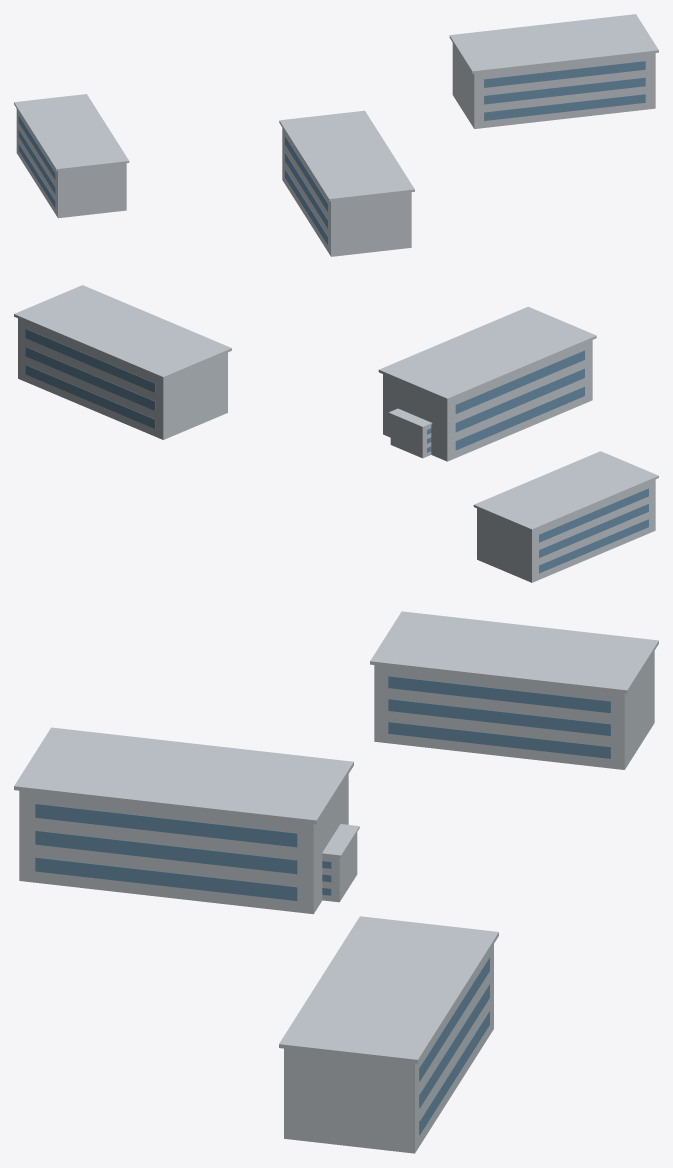
The model's file is GeoSandbox组合装配.glb.
3 renders of one model, top to bottom at view 1: azimuth 30°, elevation 25°; view 2: azimuth 150°, elevation 25°; view 3: azimuth 270°, elevation 25°, orthographic. The views are drawn at different scales.
Parts seen in each view (by area): view 1: 教学楼 A 2/Roof cap, 教学楼 A 1/Roof cap, 教学楼 A 2/Main block, 教学楼 A 1/Main block, 教学楼 A 3/Roof cap, 教学楼 A 3/Main block, 教学楼 A 2/Window strip 8.03 floor 1, 教学楼 A 2/Window strip 8.03 floor 0, 教学楼 A 2/Window strip 8.03 floor 2, 教学楼 A 1/Window strip -8.03 floor 1, 教学楼 A 1/Window strip -8.03 floor 0, 教学楼 A 1/Window strip -8.03 floor 2; view 2: 教学楼 A 2/Main block, 教学楼 A 1/Roof cap, 教学楼 A 2/Roof cap, 教学楼 A 1/Main block, 教学楼 A 3/Main block, 教学楼 A 3/Roof cap, 教学楼 A 2/Window strip -8.03 floor 0, 教学楼 A 2/Window strip -8.03 floor 1, 教学楼 A 2/Window strip -8.03 floor 2, 教学楼 A 1/Window strip -8.03 floor 0, 教学楼 A 1/Window strip -8.03 floor 1, 教学楼 A 1/Window strip -8.03 floor 2 (+4 smaller); view 3: 教学楼 A 1/Roof cap, 教学楼 A 2/Roof cap, 教学楼 A 1/Main block, 教学楼 A 2/Main block, 教学楼 A 3/Roof cap, 教学楼 A 3/Main block, 教学楼 A 1/Window strip 8.03 floor 0, 教学楼 A 1/Window strip 8.03 floor 1, 教学楼 A 1/Window strip 8.03 floor 2, 教学楼 A 3/Window strip 8.03 floor 2, 教学楼 A 3/Window strip 8.03 floor 0, 教学楼 A 3/Window strip 8.03 floor 1 (+4 smaller).
Part boxes in pixels (<box>): 教学楼 A 2/Roof cap: <box>449,14,658,73</box>; 教学楼 A 1/Roof cap: <box>279,110,414,201</box>; 教学楼 A 2/Main block: <box>452,43,655,128</box>; 教学楼 A 1/Main block: <box>282,128,411,256</box>; 教学楼 A 3/Roof cap: <box>14,94,129,171</box>; 教学楼 A 3/Main block: <box>16,109,126,218</box>; 教学楼 A 2/Window strip 8.03 floor 1: <box>484,77,645,104</box>; 教学楼 A 2/Window strip 8.03 floor 0: <box>484,94,645,120</box>; 教学楼 A 2/Window strip 8.03 floor 2: <box>484,61,645,87</box>; 教学楼 A 1/Window strip -8.03 floor 1: <box>285,152,328,228</box>; 教学楼 A 1/Window strip -8.03 floor 0: <box>285,169,328,245</box>; 教学楼 A 1/Window strip -8.03 floor 2: <box>285,136,328,212</box>; 教学楼 A 2/Main block: <box>18,318,227,439</box>; 教学楼 A 1/Roof cap: <box>378,306,596,401</box>; 教学楼 A 2/Roof cap: <box>14,285,231,379</box>; 教学楼 A 1/Main block: <box>383,340,592,461</box>; 教学楼 A 3/Main block: <box>477,479,655,582</box>; 教学楼 A 3/Roof cap: <box>473,451,658,531</box>; 教学楼 A 2/Window strip -8.03 floor 0: <box>25,365,155,428</box>; 教学楼 A 2/Window strip -8.03 floor 1: <box>25,347,155,410</box>; 教学楼 A 2/Window strip -8.03 floor 2: <box>25,329,155,392</box>; 教学楼 A 1/Window strip -8.03 floor 0: <box>455,386,584,450</box>; 教学楼 A 1/Window strip -8.03 floor 1: <box>455,368,584,432</box>; 教学楼 A 1/Window strip -8.03 floor 2: <box>455,350,584,413</box>; 教学楼 A 1/Roof cap: <box>14,727,353,824</box>; 教学楼 A 2/Roof cap: <box>279,916,498,1063</box>; 教学楼 A 1/Main block: <box>19,774,348,914</box>; 教学楼 A 2/Main block: <box>284,944,493,1153</box>; 教学楼 A 3/Roof cap: <box>370,611,658,693</box>; 教学楼 A 3/Main block: <box>374,651,654,769</box>; 教学楼 A 1/Window strip 8.03 floor 0: <box>35,857,297,900</box>; 教学楼 A 1/Window strip 8.03 floor 1: <box>35,830,297,874</box>; 教学楼 A 1/Window strip 8.03 floor 2: <box>35,803,297,847</box>; 教学楼 A 3/Window strip 8.03 floor 2: <box>388,676,610,713</box>; 教学楼 A 3/Window strip 8.03 floor 0: <box>388,722,610,758</box>; 教学楼 A 3/Window strip 8.03 floor 1: <box>388,699,610,735</box>.
Size of the model in its own units: 142 by 13.75 by 83.78.
